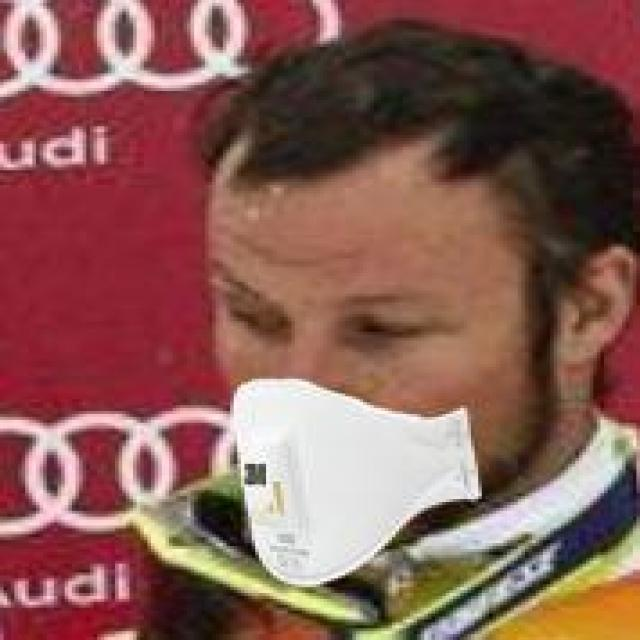mask: (176, 29, 629, 590)
